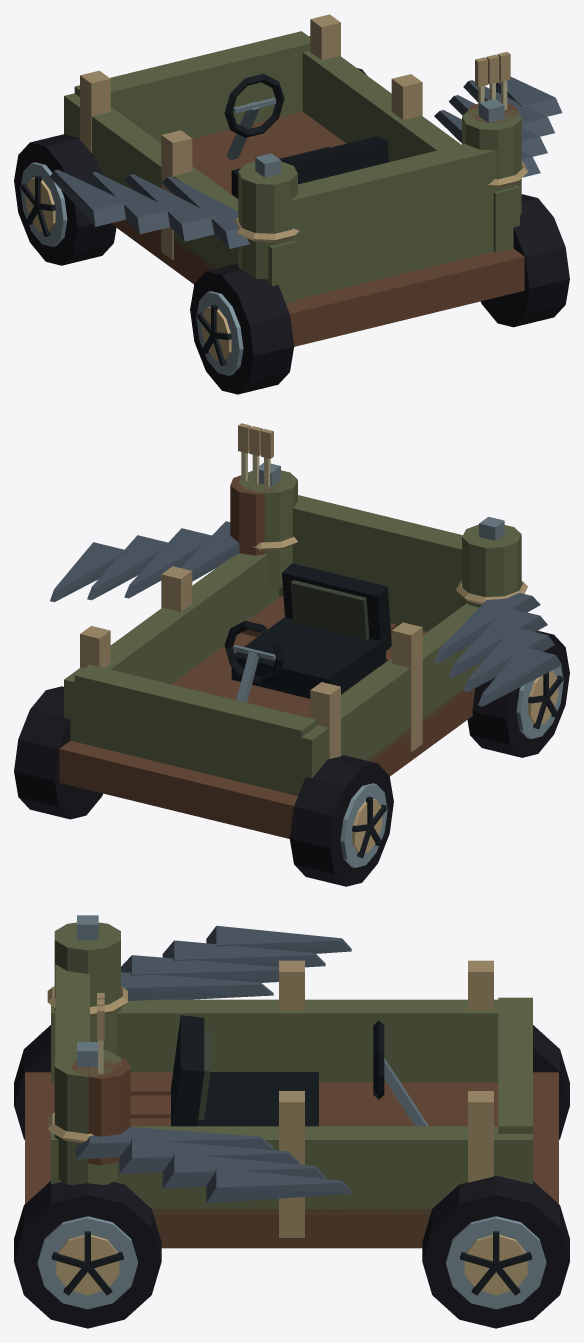
File: kart.glb
3 renders of one model, top to bottom at view 1: azimuth 30°, elevation 25°; view 2: azimuth 150°, elevation 25°; view 3: azimuth 270°, elevation 25°, orthographic. The views are drawn at different scales.
Parts seen in each view (by area): view 1: identity-wagon-wagon-timber-coach, identity-wagon-motif-wings-feather, wheel-rear-left, identity-wagon-motif-tanks, wheel-front-left, wheel-rear-right, identity-wagon-driver-cockpit, identity-wagon-motif-quiver; view 2: identity-wagon-wagon-timber-coach, identity-wagon-motif-wings-feather, identity-wagon-driver-cockpit, wheel-front-left, identity-wagon-motif-tanks, wheel-rear-left, wheel-front-right, identity-wagon-motif-quiver; view 3: identity-wagon-wagon-timber-coach, identity-wagon-motif-wings-feather, wheel-front-right, wheel-rear-right, identity-wagon-motif-tanks, identity-wagon-driver-cockpit, identity-wagon-motif-quiver, wheel-front-left, wheel-rear-left.
Part boxes in pixels (<box>): identity-wagon-wagon-timber-coach: <box>64,14,524,346</box>; identity-wagon-motif-wings-feather: <box>50,77,562,248</box>; wheel-rear-left: <box>190,263,294,394</box>; identity-wagon-motif-tanks: <box>235,99,527,279</box>; wheel-front-left: <box>14,134,116,265</box>; wheel-rear-right: <box>480,194,569,327</box>; identity-wagon-driver-cockpit: <box>224,73,388,198</box>; identity-wagon-motif-quiver: <box>467,51,518,122</box>; identity-wagon-wagon-timber-coach: <box>59,495,483,838</box>; identity-wagon-motif-wings-feather: <box>50,521,562,706</box>; identity-wagon-driver-cockpit: <box>224,563,391,702</box>; wheel-front-left: <box>289,755,393,886</box>; identity-wagon-motif-tanks: <box>238,463,527,607</box>; wheel-rear-left: <box>467,631,569,757</box>; wheel-front-right: <box>14,686,102,819</box>; identity-wagon-motif-quiver: <box>230,423,280,555</box>; identity-wagon-wagon-timber-coach: <box>25,960,558,1248</box>; identity-wagon-motif-wings-feather: <box>76,925,351,1203</box>; wheel-front-right: <box>422,1175,569,1328</box>; wheel-rear-right: <box>14,1181,161,1328</box>; identity-wagon-motif-tanks: <box>47,915,127,1184</box>; identity-wagon-driver-cockpit: <box>171,1015,428,1126</box>; identity-wagon-motif-quiver: <box>71,993,130,1165</box>; wheel-front-left: <box>533,1025,569,1139</box>; wheel-rear-left: <box>14,1025,50,1139</box>.
Size of the model in its own units: 2.88 by 1.54 by 2.56.
